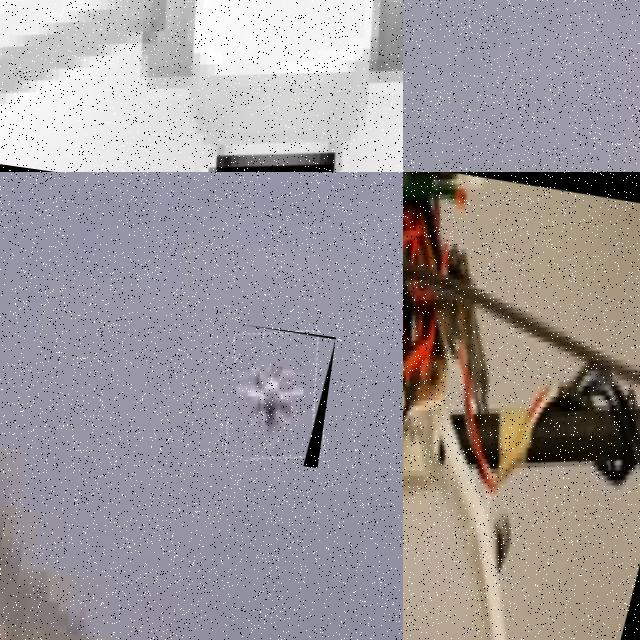drone: (403, 172, 640, 640), (0, 0, 403, 172), (222, 324, 336, 468)
